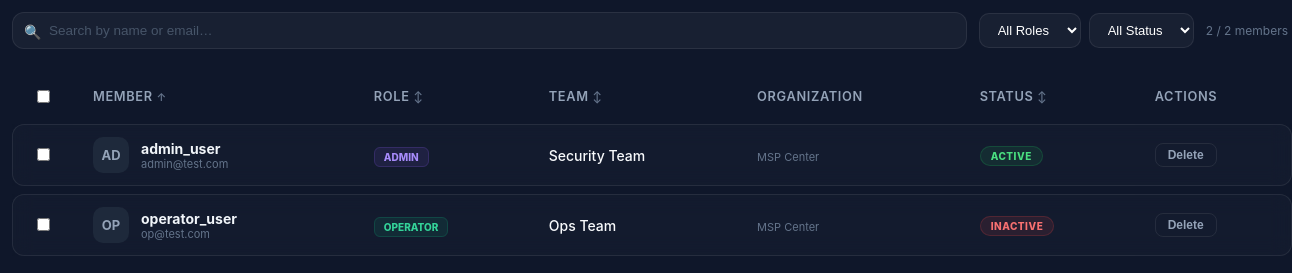
OperatorTable › should filter by role
The image size is (1292, 273).
Select "Admin" in the 1st dropdown showing "All Roles". click: (1030, 30)
box: [979,13,1081,48]
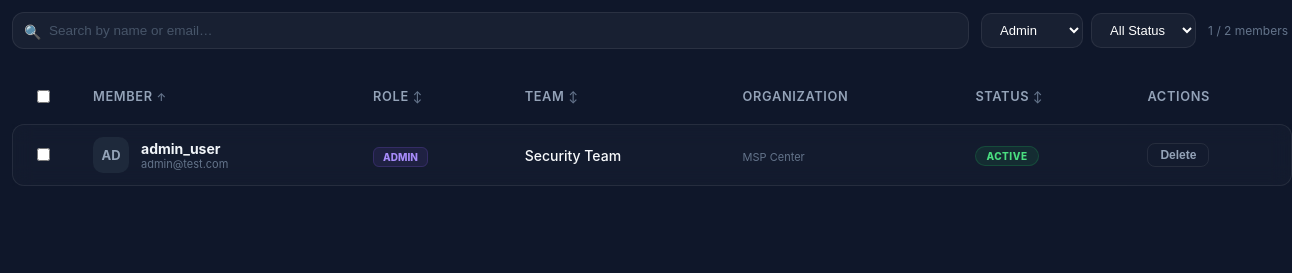
expect the text "admin_user" is shown: met, box [141,140,228,156]
expect the text "operator_user" is gone: met
